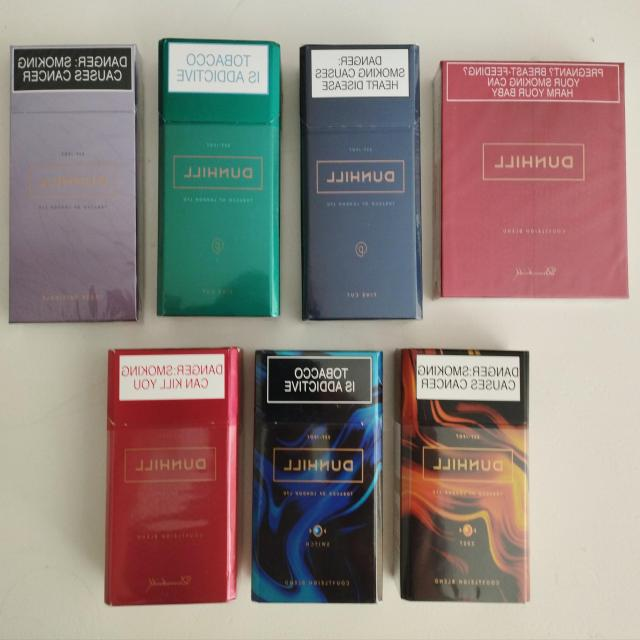dunhill: (436, 58, 632, 299), (240, 342, 386, 610), (396, 338, 533, 610), (3, 45, 132, 331), (296, 40, 422, 332), (159, 36, 276, 322), (109, 349, 233, 604)
